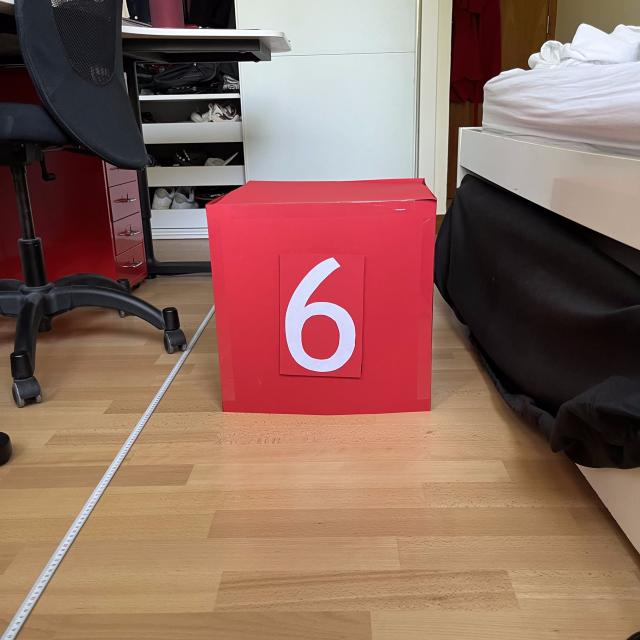box: (202, 175, 439, 418)
